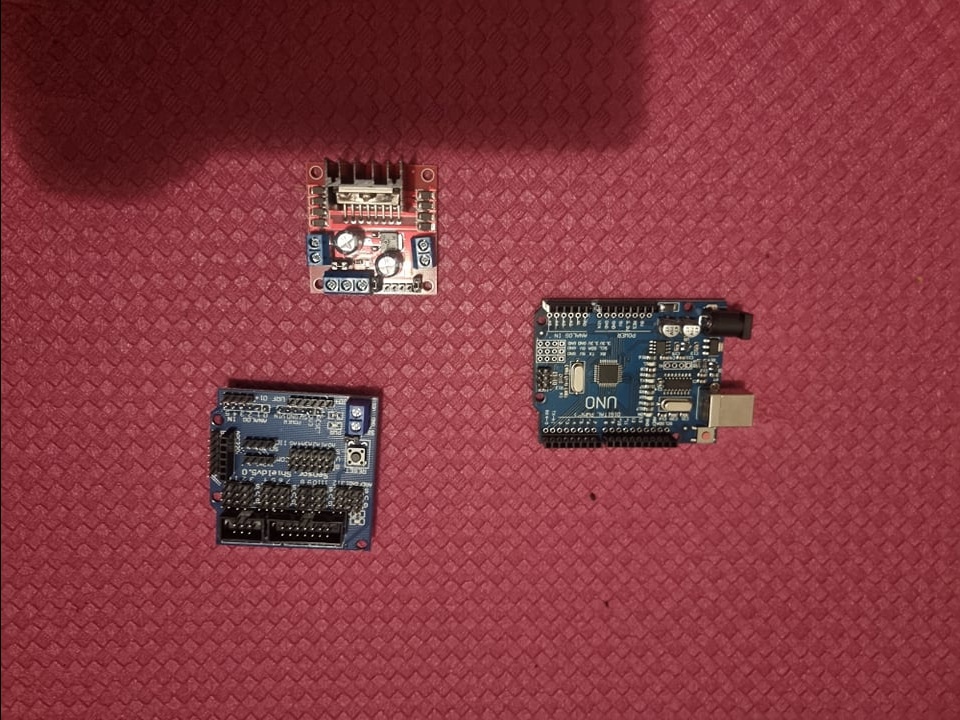5V EXPANSION: (205, 382, 382, 548)
MOTOR: (303, 158, 441, 292)
UNO R3: (529, 295, 758, 454)
